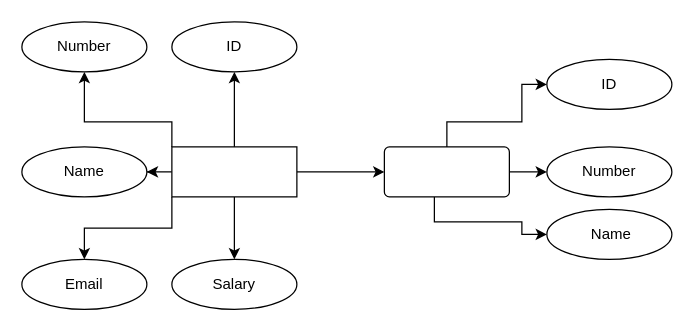
The diagram is 694 pixels wide and 331 high, and some of its shapes have lost their labels. The box of each missing label's shape, as (x1, y1, x2, y2) in pixels:
Department: (383, 146, 509, 197)
Employee: (171, 146, 297, 197)
